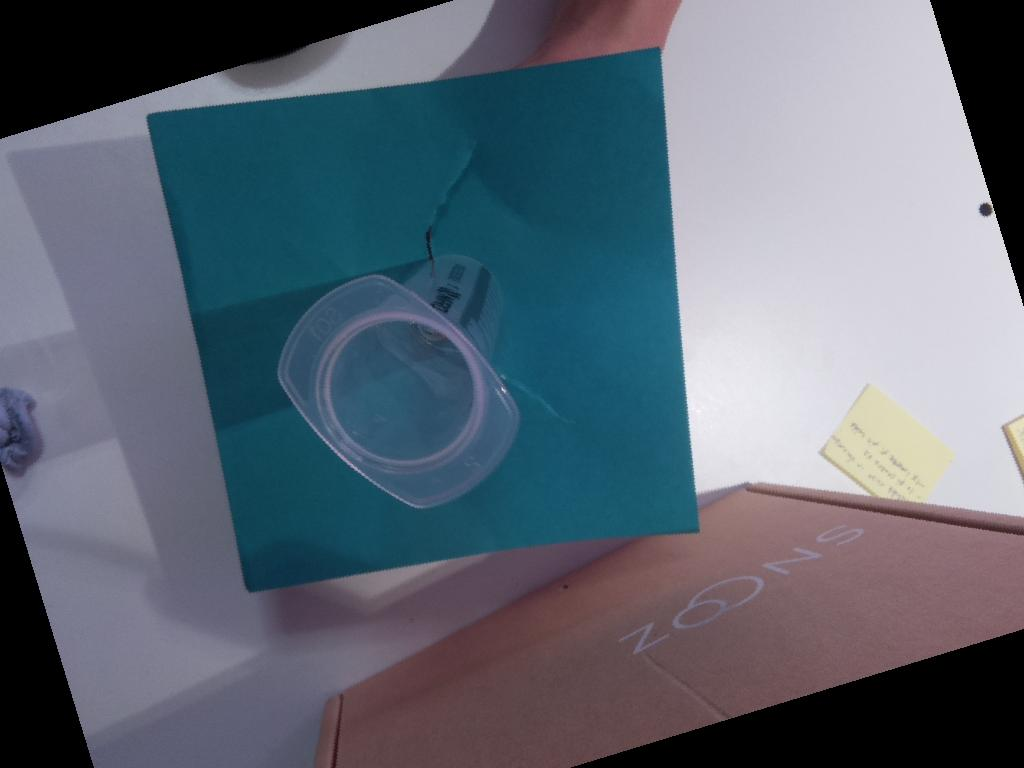clean: (275, 276, 520, 512)
